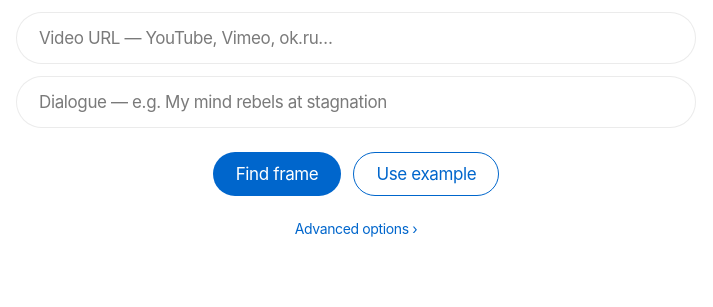
Test case: SearchForm › requires a URL and a dialogue line
Click the button "Find frame" at (277, 174), box [213,152,341,196]
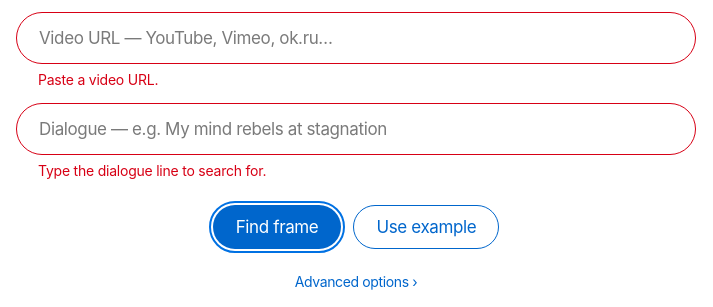
Expected: the text "Paste a video URL." is shown, [38,71,158,88]
Expected: the text "Type the dialogue line to search for." is shown, [38,162,266,179]
